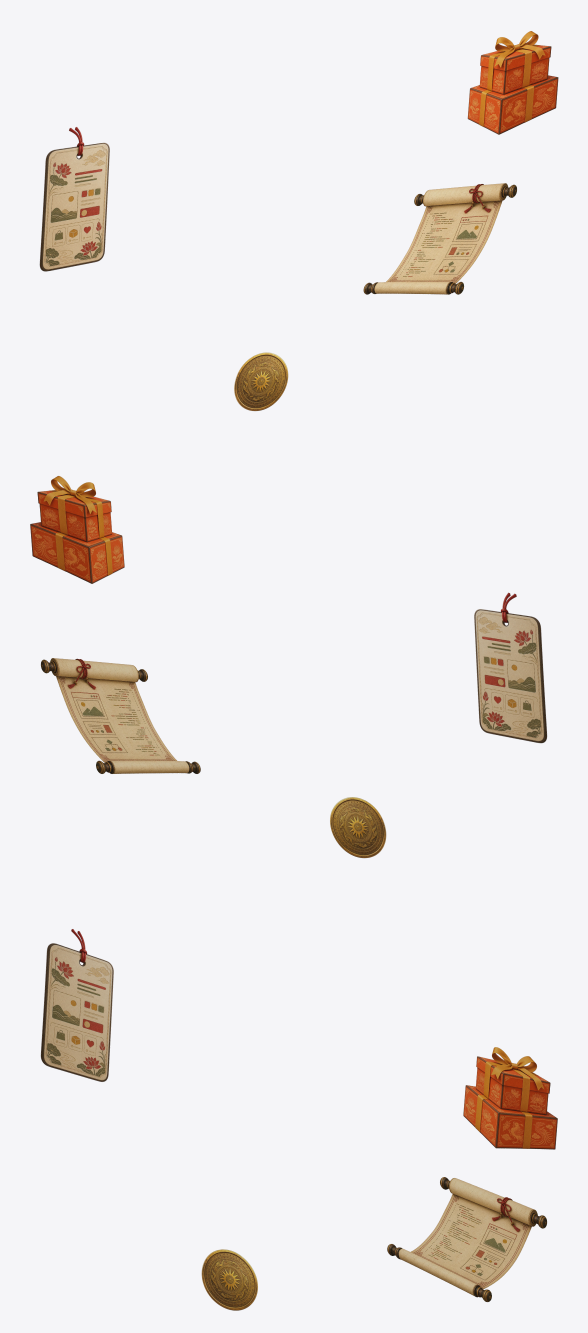
File: EW26_Sidekick_251207v4_compressed-optimized-e5f35938a8.glb
The picture shows the model from 3 angles, top to bottom: view 1: azimuth 30°, elevation 25°; view 2: azimuth 150°, elevation 25°; view 3: azimuth 330°, elevation 25°; orthographic projection. The views are drawn at different scales.
Visible parts, largest first — view 1: Vietfolk_sidekick_scroll, Vietfolk_sidekick_tag, Vietfolk_sidekick_giftbox, Vietfolk_sidekick_coin; view 2: Vietfolk_sidekick_scroll, Vietfolk_sidekick_tag, Vietfolk_sidekick_giftbox, Vietfolk_sidekick_coin; view 3: Vietfolk_sidekick_scroll, Vietfolk_sidekick_tag, Vietfolk_sidekick_giftbox, Vietfolk_sidekick_coin.
Part boxes in pixels (x1,y1,x2,y2): Vietfolk_sidekick_scroll: [363, 183, 516, 294]; Vietfolk_sidekick_tag: [39, 127, 109, 271]; Vietfolk_sidekick_giftbox: [467, 31, 558, 134]; Vietfolk_sidekick_coin: [234, 352, 288, 410]; Vietfolk_sidekick_scroll: [41, 658, 200, 773]; Vietfolk_sidekick_tag: [474, 592, 546, 743]; Vietfolk_sidekick_giftbox: [30, 476, 124, 583]; Vietfolk_sidekick_coin: [330, 797, 386, 857]; Vietfolk_sidekick_scroll: [387, 1177, 546, 1301]; Vietfolk_sidekick_tag: [41, 929, 113, 1081]; Vietfolk_sidekick_giftbox: [463, 1047, 557, 1149]; Vietfolk_sidekick_coin: [201, 1249, 257, 1310].
Size of the model in its own units: 2.85 by 1.67 by 0.22.
4 materials, 4 textured.
